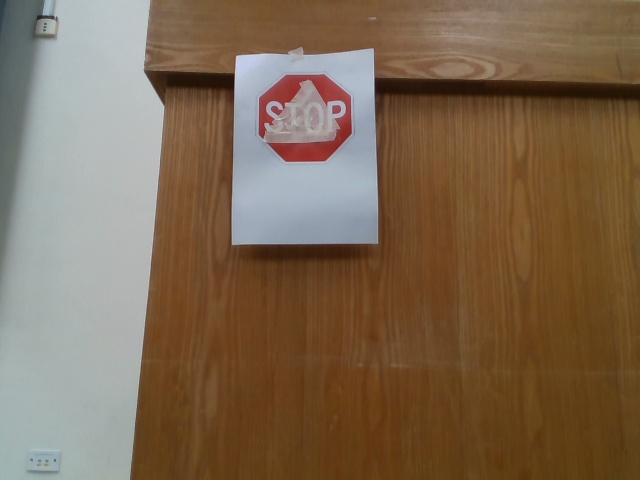stop: (256, 71, 360, 166)
